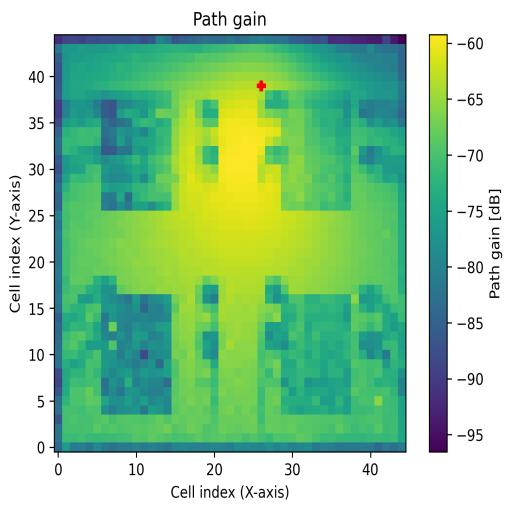Concrete: (280, 90, 352, 212)
Glass: (102, 91, 171, 211)
Metal: (280, 294, 352, 414)
Wood: (101, 295, 172, 414)
